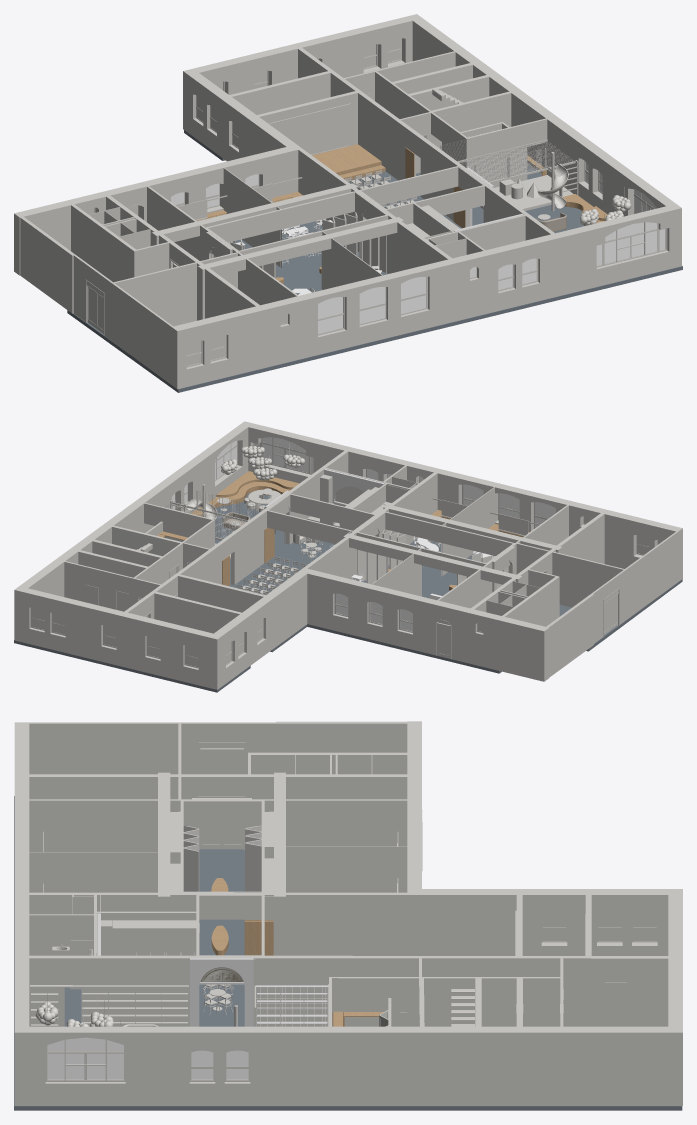
File: interior-color.glb
The picture shows the model from 3 angles, top to bottom: view 1: azimuth 30°, elevation 25°; view 2: azimuth 150°, elevation 25°; view 3: azimuth 270°, elevation 25°; orthographic projection. The views are drawn at different scales.
Visible parts, largest first — view 1: object 1, object 68, object 69, KEEP, object 71; view 2: object 1, object 68, object 69, KEEP (×2), object 8, object 71; view 3: object 1, object 68, object 69, object 8, KEEP.
Boxes of the visible parts, x1,y1,x2,y2 form: object 1: (14, 14, 681, 389); object 68: (67, 130, 682, 392); object 69: (171, 162, 665, 333); KEEP: (312, 144, 381, 175); object 71: (228, 219, 381, 295); object 1: (14, 421, 682, 689); object 68: (14, 492, 682, 692); object 69: (172, 437, 555, 631); KEEP (×2): (201, 471, 299, 516); object 8: (265, 468, 384, 543); object 71: (350, 536, 495, 600); object 1: (14, 721, 682, 1105); object 68: (14, 796, 682, 1110); object 69: (47, 1037, 248, 1079); object 8: (97, 913, 328, 1026); KEEP: (244, 921, 273, 955).
Size of the model in its own units: 30.13 by 3.6 by 27.32.
Materials: 8 (4 with a texture image).
